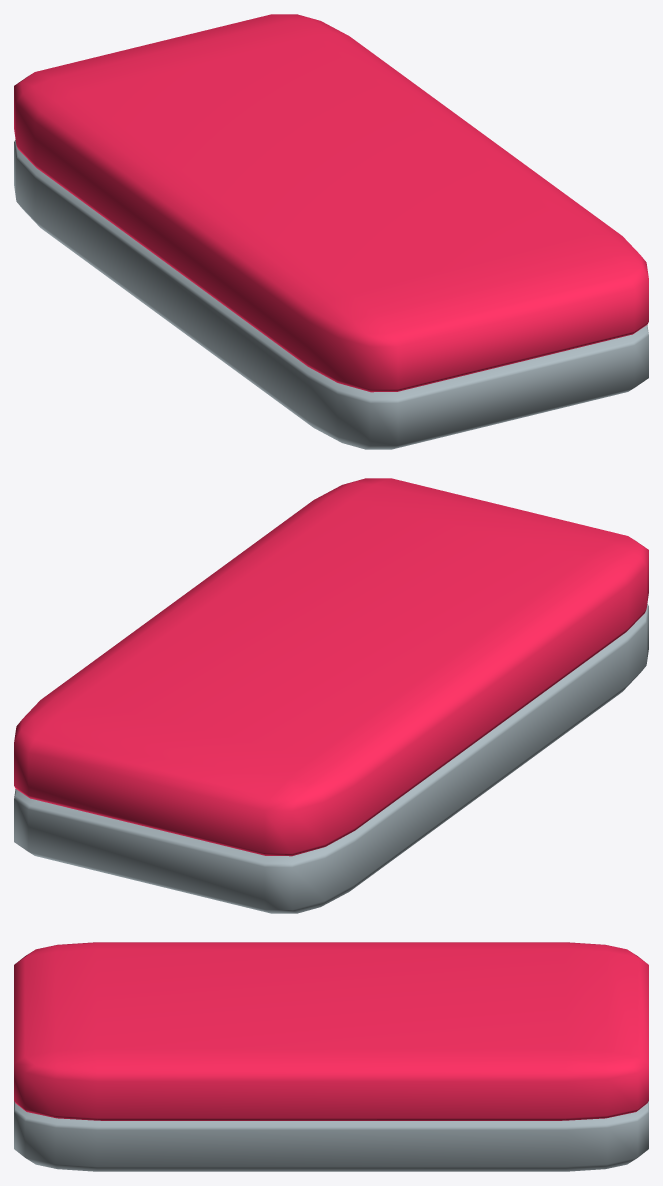
File: Trampolin.fbx
The picture shows the model from 3 angles, top to bottom: view 1: azimuth 30°, elevation 25°; view 2: azimuth 150°, elevation 25°; view 3: azimuth 270°, elevation 25°; orthographic projection. The views are drawn at different scales.
Parts seen in each view (by area): view 1: tileSmall_teamRed; view 2: tileSmall_teamRed; view 3: tileSmall_teamRed.
Boxes of the visible parts, x1,y1,x2,y2 form: tileSmall_teamRed: [14, 14, 648, 449]; tileSmall_teamRed: [14, 478, 648, 913]; tileSmall_teamRed: [14, 942, 648, 1171].
Bounding box in the file's own units: 50 × 20 × 100.
